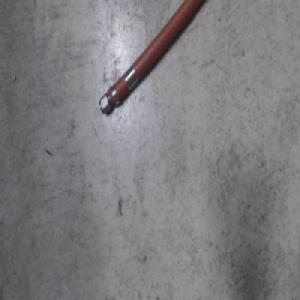Hose: (97, 0, 207, 116)
